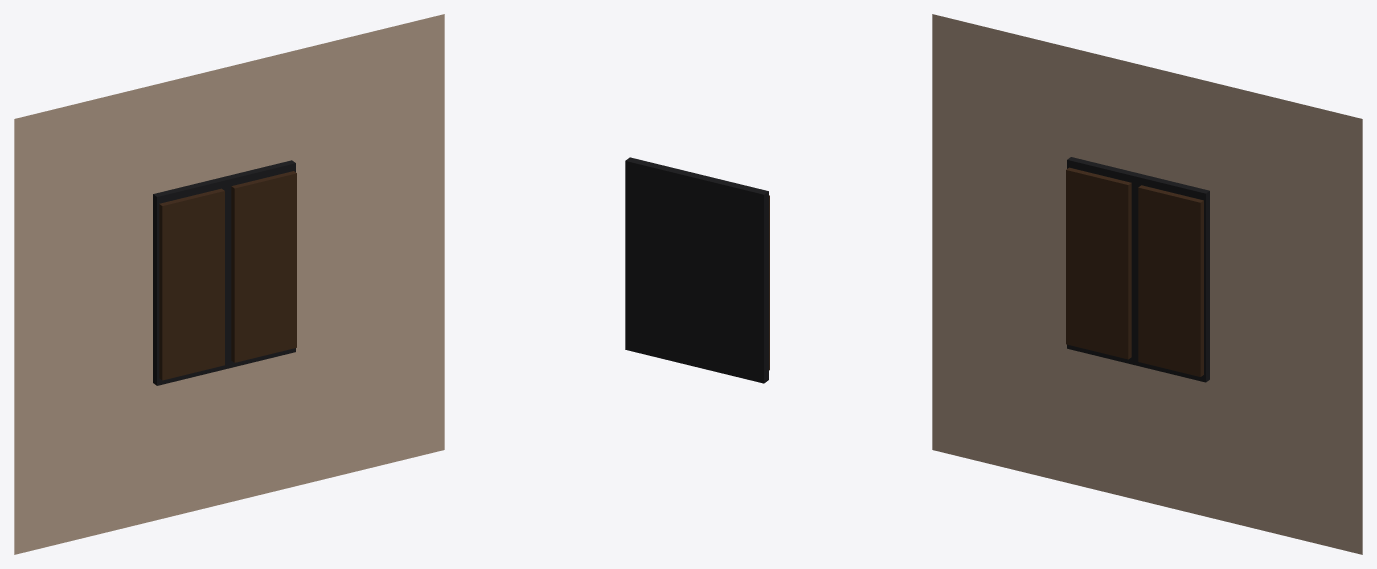
Rendered from ato2_janela_veneziana.glb.
The picture shows the model from 3 angles, left to right: view 1: azimuth 30°, elevation 25°; view 2: azimuth 150°, elevation 25°; view 3: azimuth 330°, elevation 25°; orthographic projection.
Parts seen in each view (by area): view 1: Malha_0; view 2: Malha_0; view 3: Malha_0.
Part boxes in pixels (x1,y1,x2,y2): Malha_0: (14,14,444,554); Malha_0: (625,157,769,383); Malha_0: (932,14,1362,554).
Size of the model in its own units: 3.1 by 3 by 0.1.
